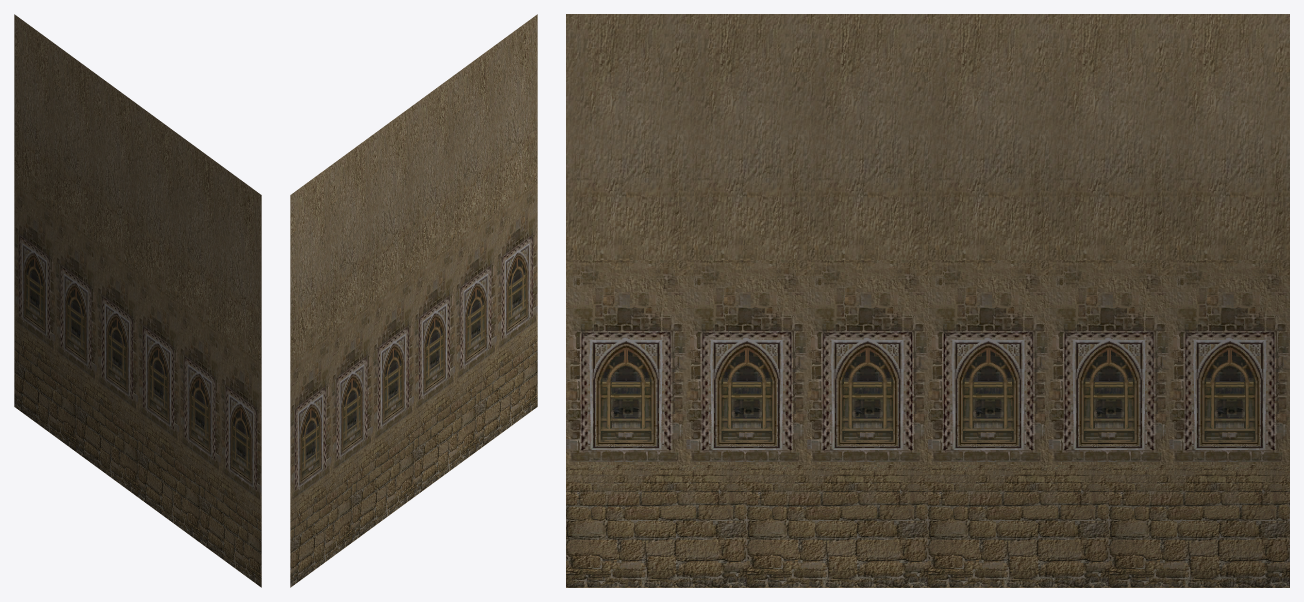
The model's file is M7Z2_WallSection4A.glb.
3 views of the same model, side by side, from view 1: azimuth 30°, elevation 25°; view 2: azimuth 150°, elevation 25°; view 3: azimuth 270°, elevation 25° (orthographic). The views are drawn at different scales.
Visible parts, largest first — view 1: M7Z2_WALLSECTION4A; view 2: M7Z2_WALLSECTION4A; view 3: M7Z2_WALLSECTION4A.
Boxes of the visible parts, x1,y1,x2,y2 form: M7Z2_WALLSECTION4A: [14, 14, 261, 587]; M7Z2_WALLSECTION4A: [290, 14, 537, 587]; M7Z2_WALLSECTION4A: [566, 14, 1289, 587].
Size of the model in its own units: 0 by 14 by 16.
Materials: 3 (3 with a texture image).
